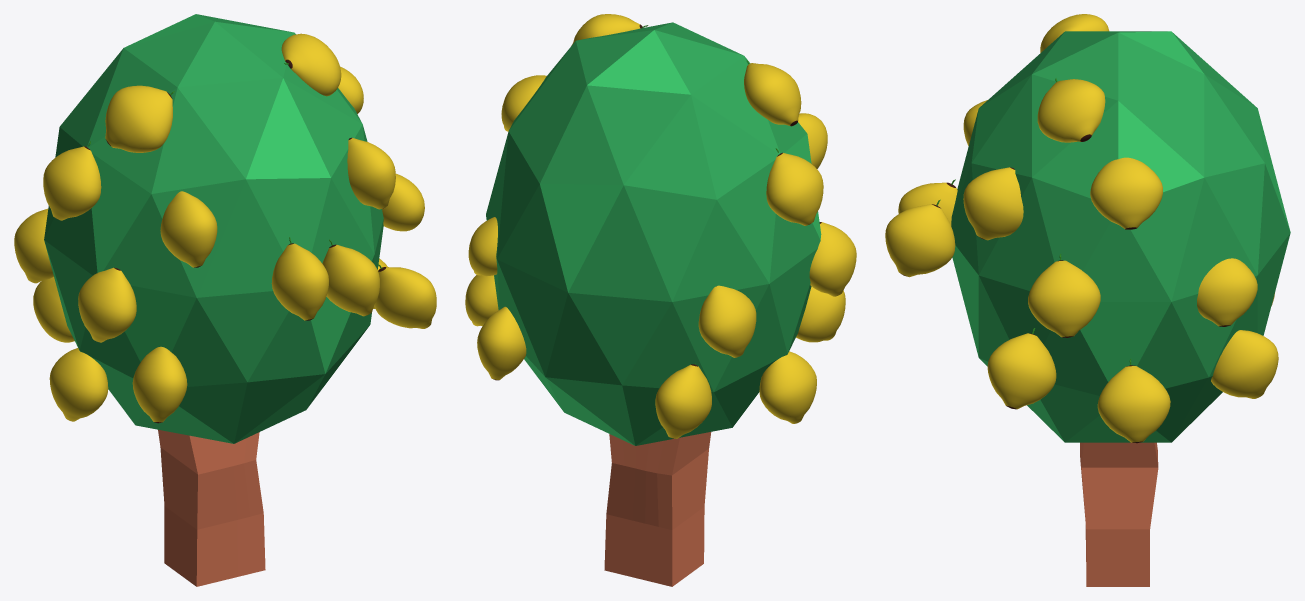
3 renders of one model, left to right at view 1: azimuth 30°, elevation 25°; view 2: azimuth 150°, elevation 25°; view 3: azimuth 270°, elevation 25°, orthographic.
Visible parts, largest first — view 1: Sphere.001; view 2: Sphere.001; view 3: Sphere.001.
Part boxes in pixels (x1,y1,x2,y2): Sphere.001: (14,14,436,586); Sphere.001: (465,14,856,586); Sphere.001: (885,14,1290,586).
Bounding box in the file's own units: 52.25 × 78.97 × 53.94.
